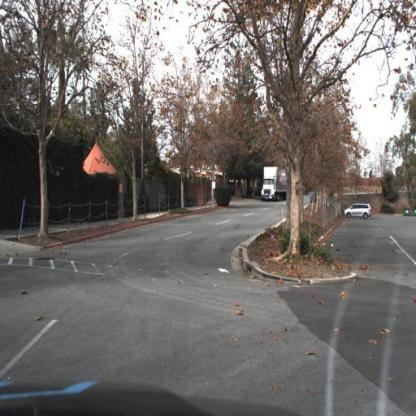car: (343, 202, 373, 221)
truck: (261, 166, 297, 202)
